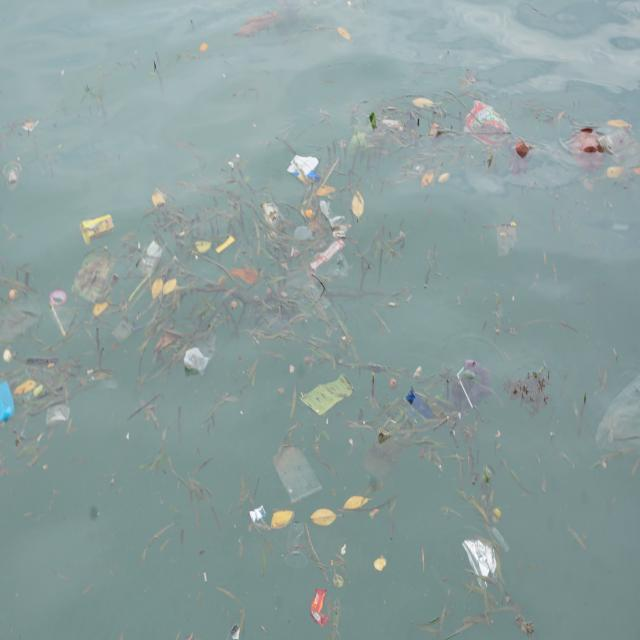Bungkus Makanan: (310, 588, 330, 628)
Bungkus Minuman: (286, 521, 310, 571)
Kantong Plastik: (272, 438, 324, 507), (182, 336, 219, 382)
